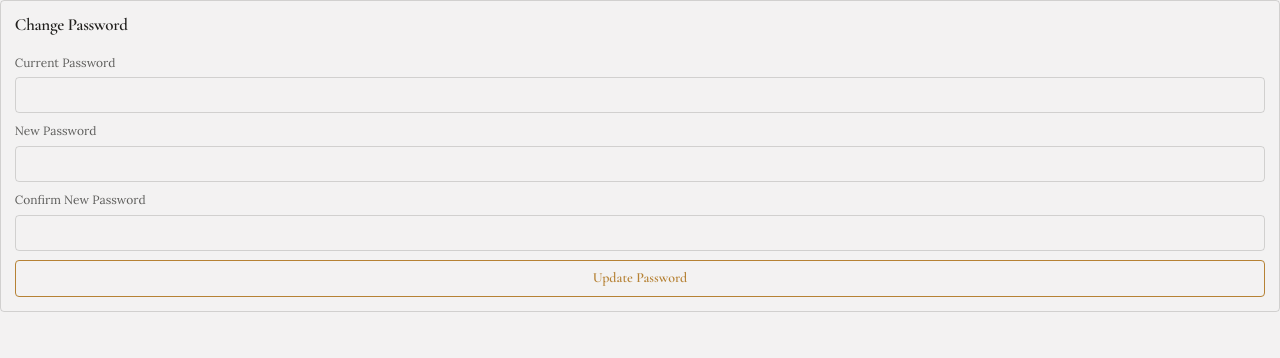
it: ChangePasswordForm › requires the new password to be at least 10 characters
The image size is (1280, 358).
Type "oldpassword1" into the password field labelled "Current Password" at [640, 95], box [15,77,1265,113]
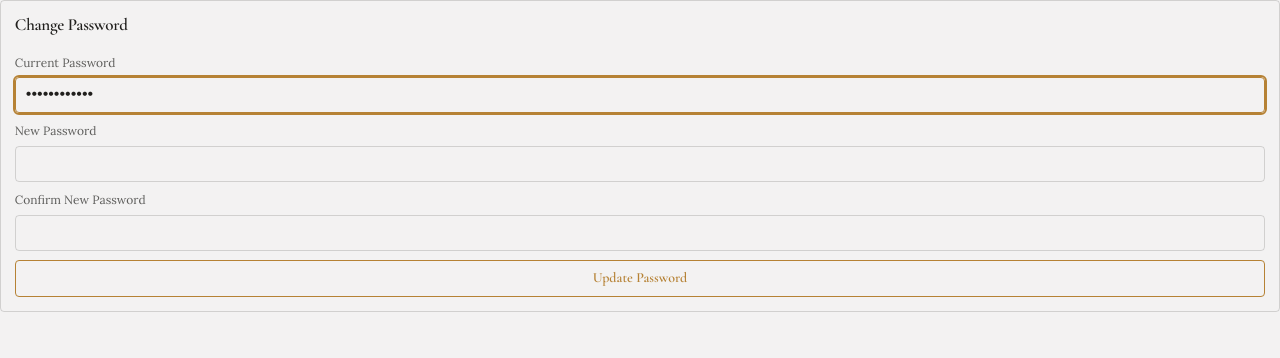
Type "short" into the password field labelled "New Password" at [640, 164], box [15,146,1265,182]
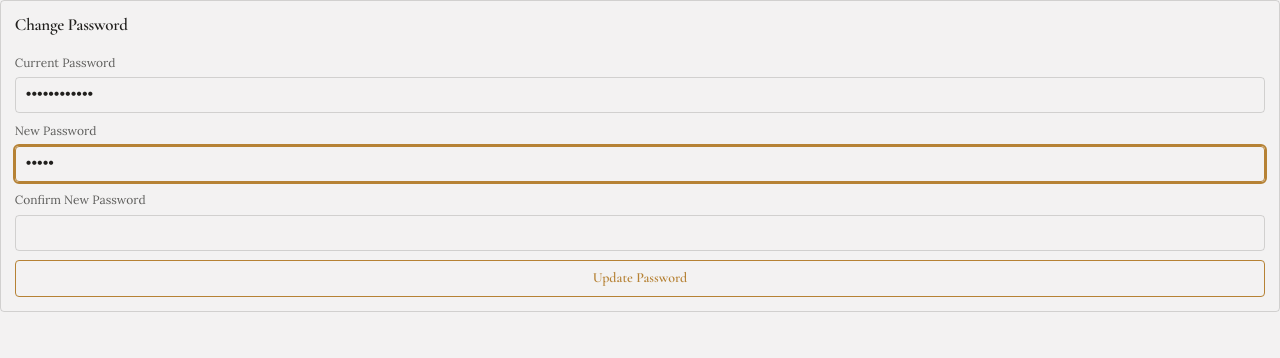
Type "short" into the password field labelled "Confirm New Password" at [640, 233], box [15,215,1265,251]
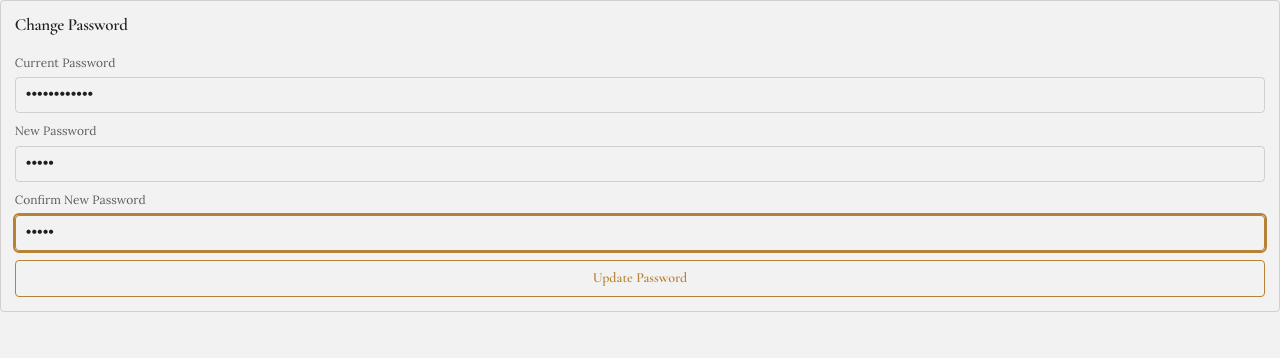
Click the button "Update Password" at [640, 278], box [15,260,1265,297]
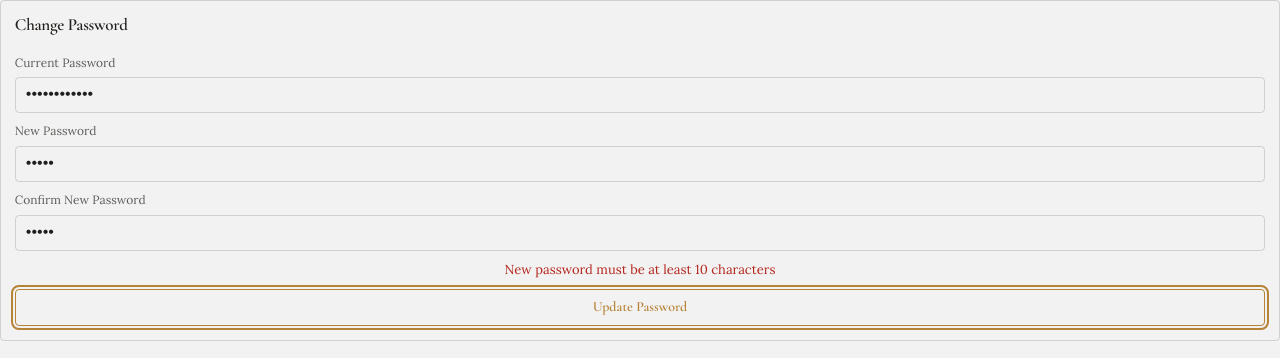
Check: the text "New password must be at least 10 characters" is shown, box [505,261,775,278]
